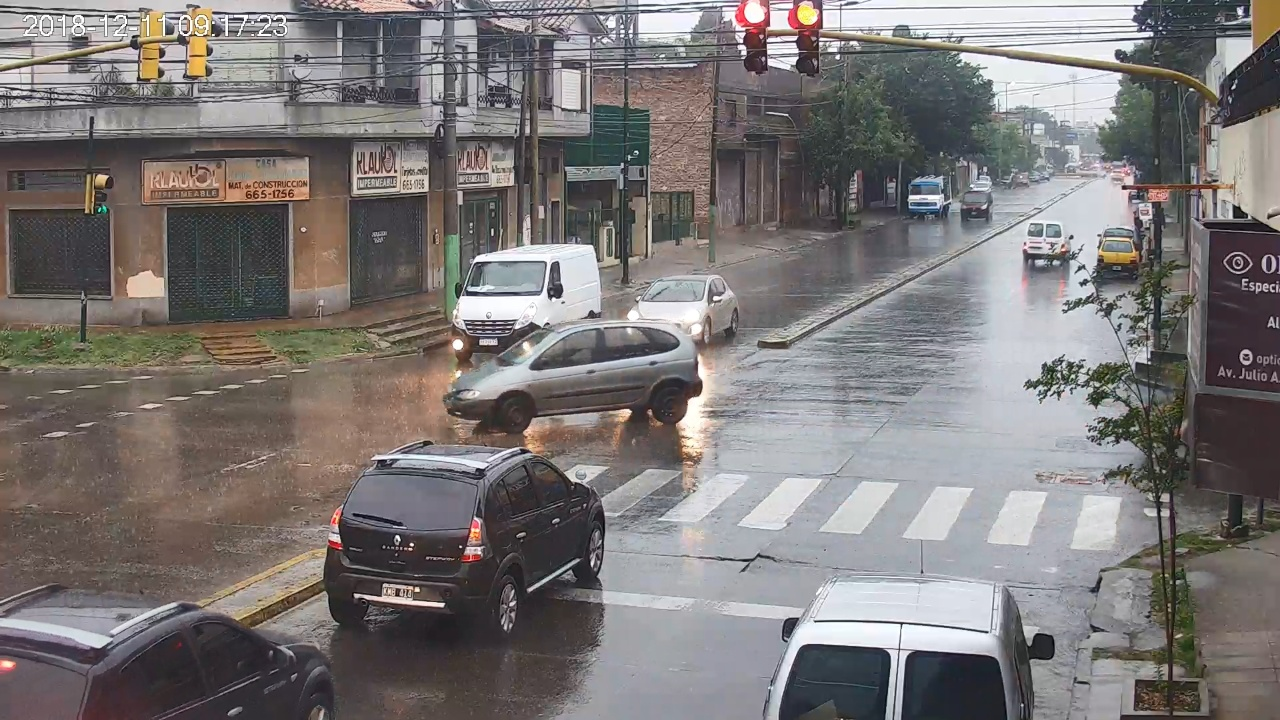car: (325, 440, 607, 633), (1, 581, 333, 720), (763, 574, 1055, 720)
traffic light: (795, 3, 820, 73), (743, 3, 768, 72)
